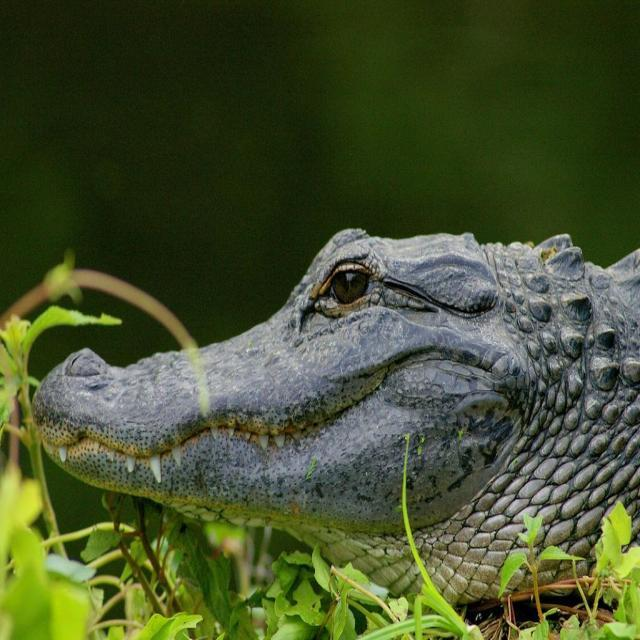crocodile: (15, 208, 639, 614)
